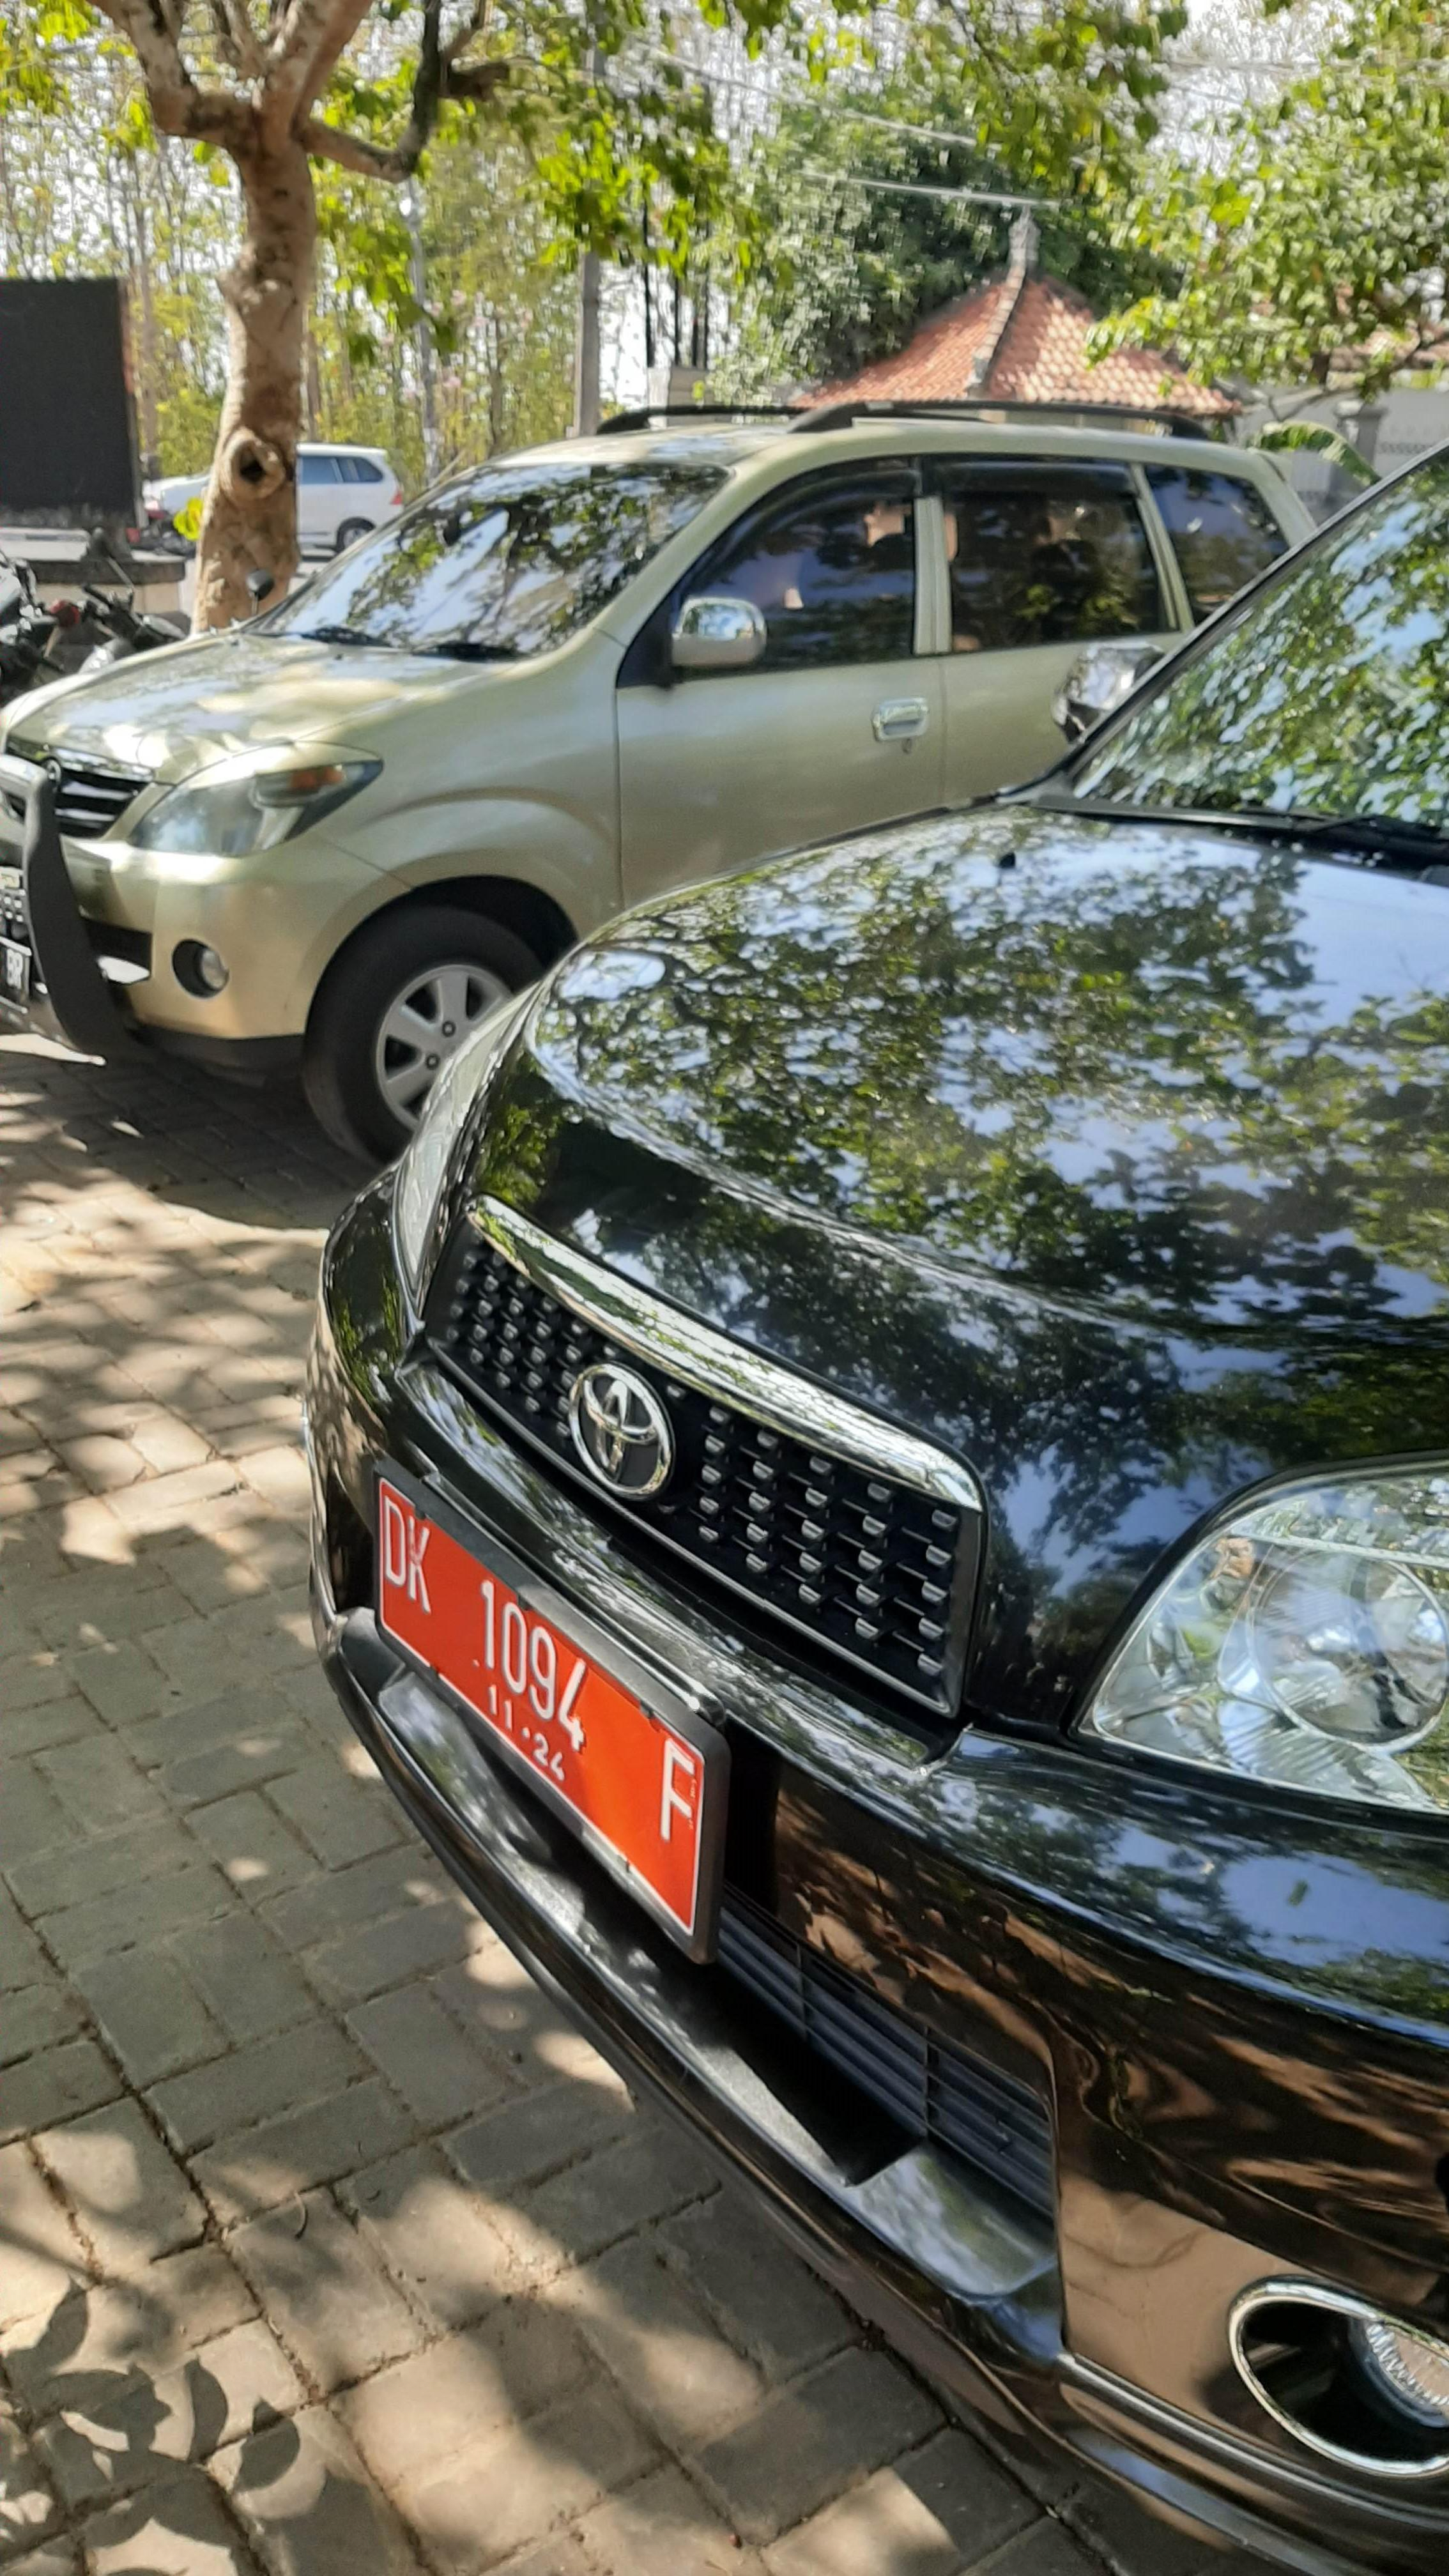plate: (373, 1468, 702, 1937)
